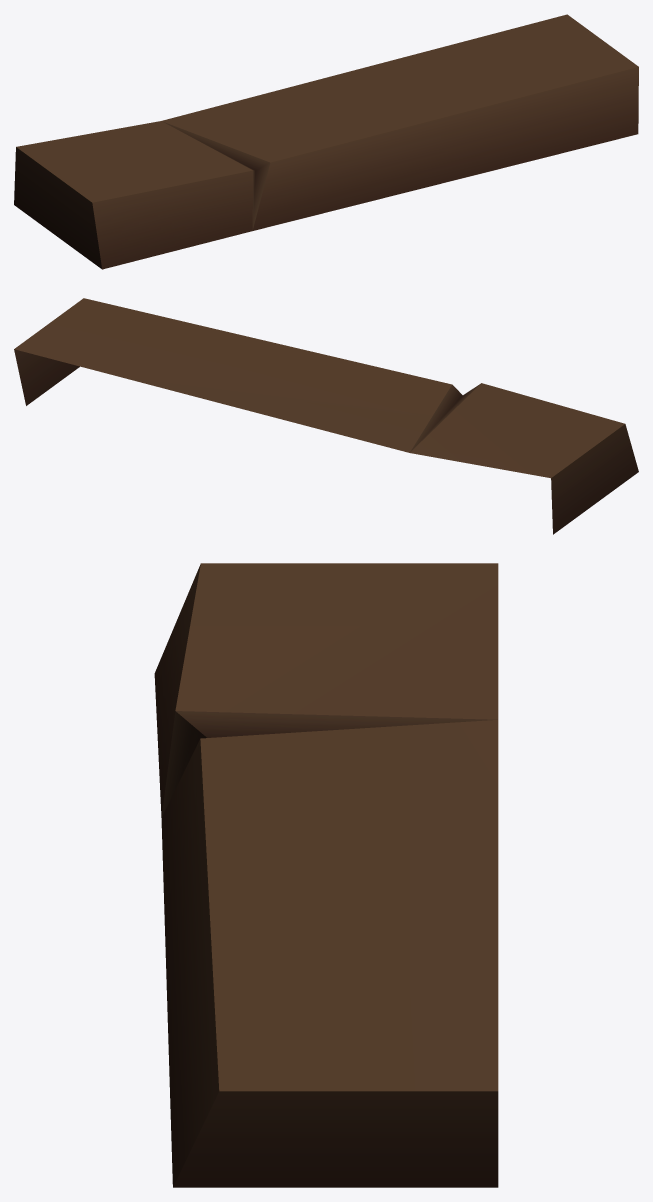
File: Stairs_05A.fbx
3 views of the same model, one above another, from view 1: azimuth 30°, elevation 25°; view 2: azimuth 150°, elevation 25°; view 3: azimuth 270°, elevation 25° (orthographic). The views are drawn at different scales.
Visible parts, largest first — view 1: Stairs_05A; view 2: Stairs_05A; view 3: Stairs_05A.
Boxes of the visible parts, <box> form: Stairs_05A: <box>14,14,638,269</box>; Stairs_05A: <box>14,298,638,534</box>; Stairs_05A: <box>154,563,498,1187</box>.
Size of the model in its own units: 163 by 16.2 by 44.98.
Materials: 1 (1 with a texture image).
